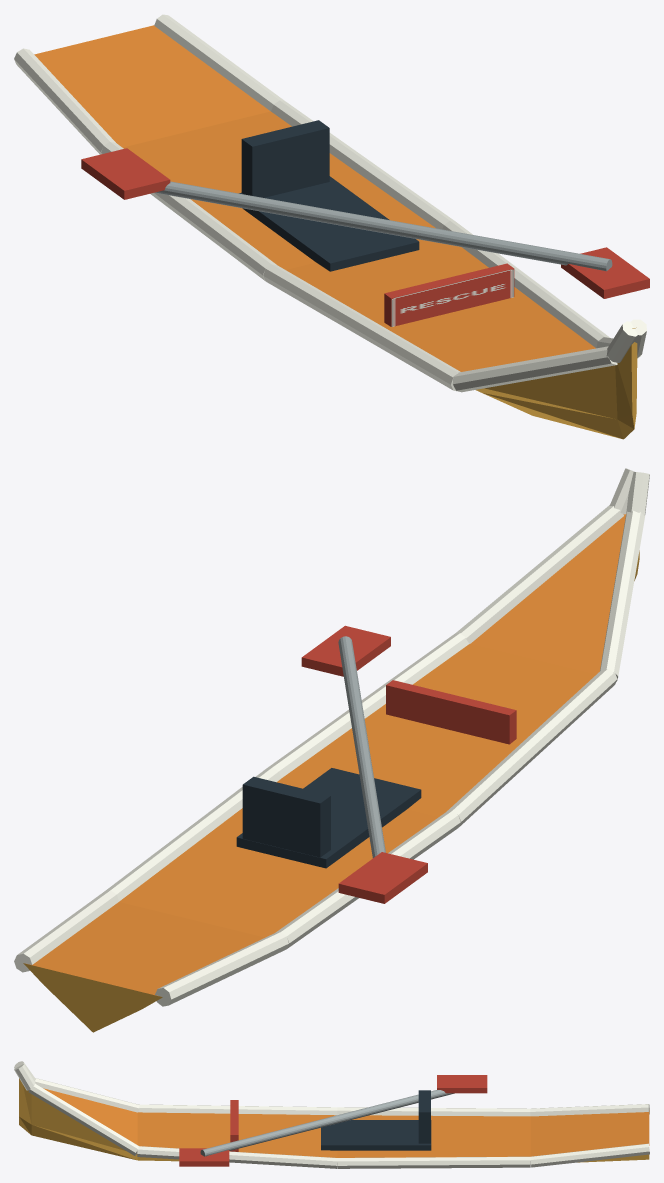
File: scendance-plan-lifeguard-kayak.glb
The picture shows the model from 3 angles, top to bottom: view 1: azimuth 30°, elevation 25°; view 2: azimuth 150°, elevation 25°; view 3: azimuth 270°, elevation 25°; orthographic projection. The views are drawn at different scales.
Size of the model in its own units: 1.26 by 0.6883 by 3.92.
7 materials, 1 textured.
